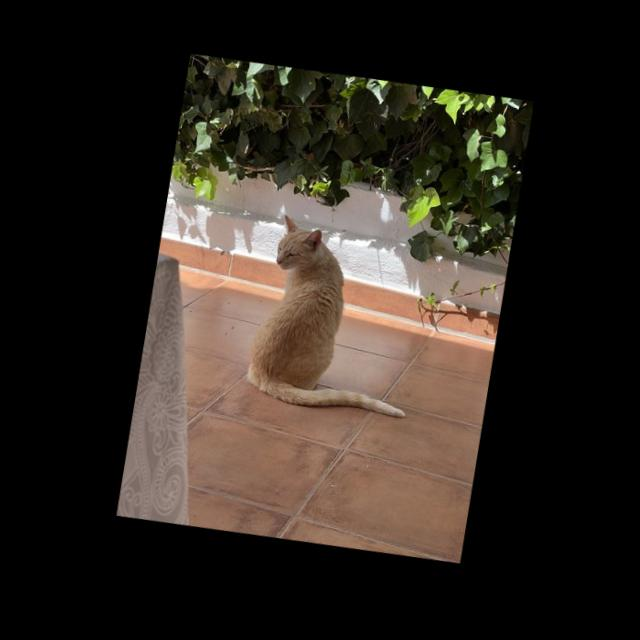animals: (240, 209, 436, 427)
